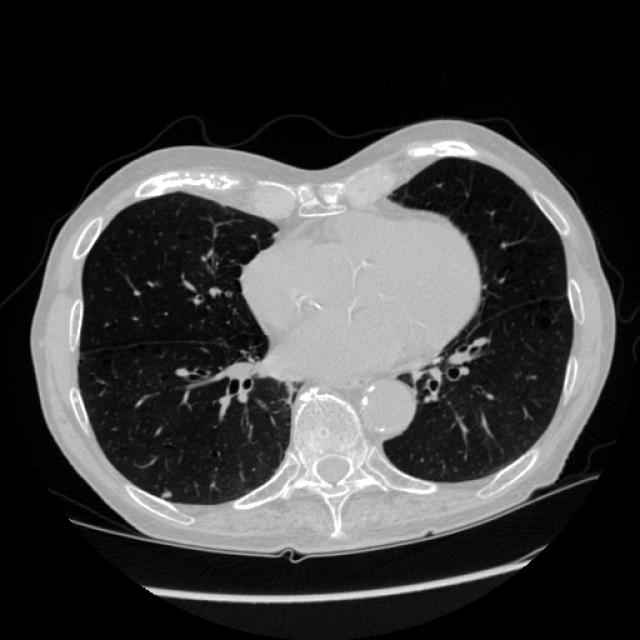nodule: (155, 484, 175, 504)
